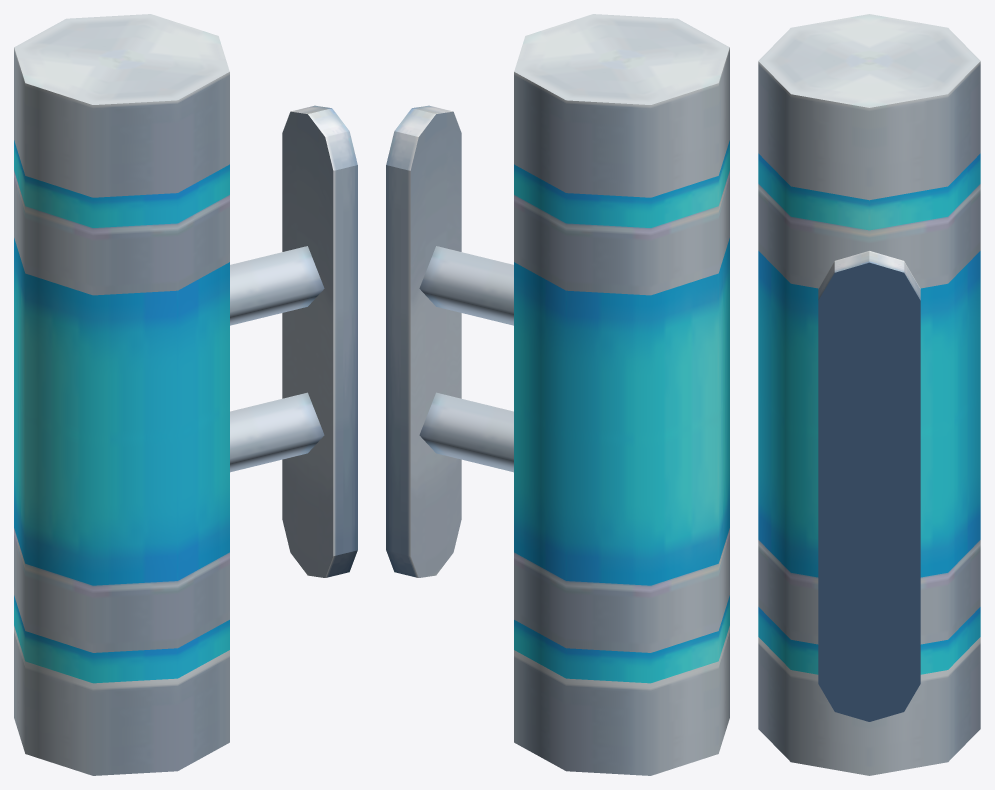
File: my_millenniumlounge_01_lamp_01.glb
3 renders of one model, left to right at view 1: azimuth 30°, elevation 25°; view 2: azimuth 150°, elevation 25°; view 3: azimuth 270°, elevation 25°, orthographic.
Parts seen in each view (by area): view 1: my_millenniumlounge_01_lamp_01; view 2: my_millenniumlounge_01_lamp_01; view 3: my_millenniumlounge_01_lamp_01.
Part boxes in pixels (x1,y1,x2,y2): my_millenniumlounge_01_lamp_01: (14,14,357,775); my_millenniumlounge_01_lamp_01: (386,14,729,775); my_millenniumlounge_01_lamp_01: (758,14,980,775).
Bounding box in the file's own units: 0.00212 × 0.00443 × 0.00134.
2 materials, 2 textured.
